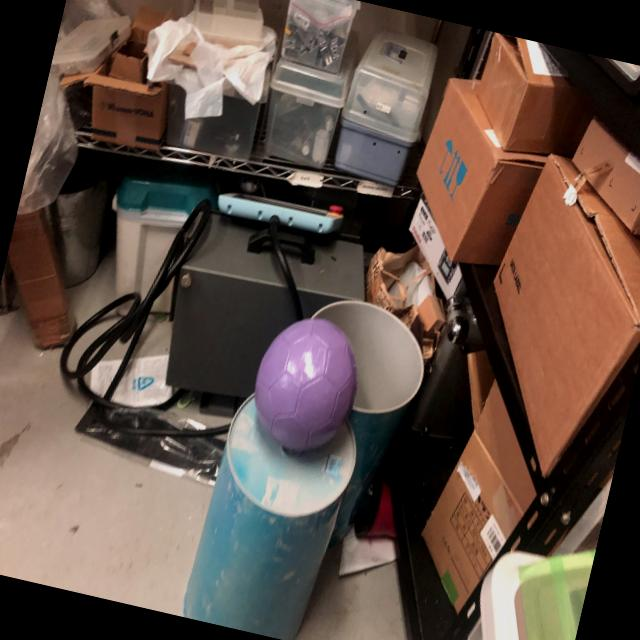purple_ball: (240, 308, 370, 464)
